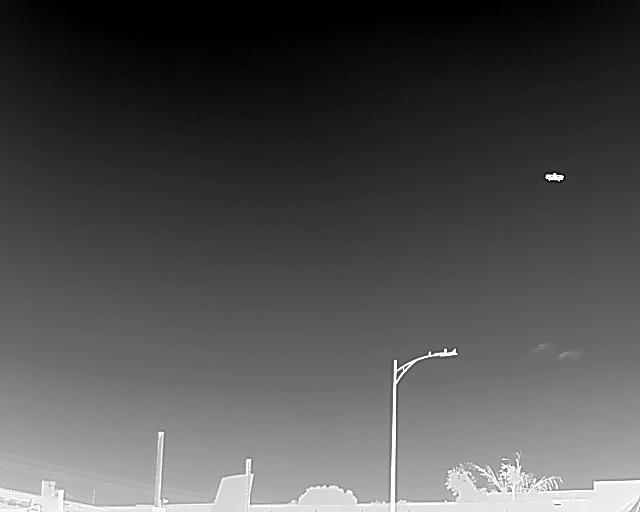fpv-drone: (545, 173, 565, 182)
